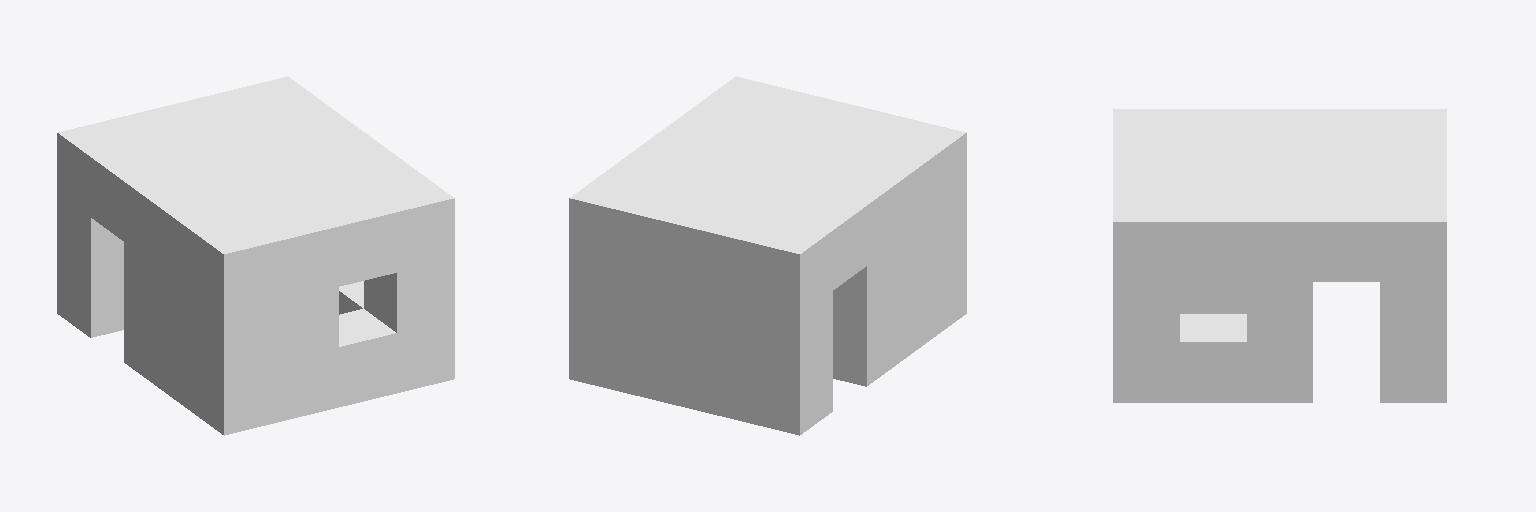
File: house1.obj
The picture shows the model from 3 angles: view 1: azimuth 30°, elevation 25°; view 2: azimuth 150°, elevation 25°; view 3: azimuth 270°, elevation 25°; orthographic projection.
Parts seen in each view (by area): view 1: object 1; view 2: object 1; view 3: object 1.
Part boxes in pixels (x1,y1,x2,y2): object 1: (57,76,454,435); object 1: (569,76,966,435); object 1: (1113,109,1446,402).
Bounding box in the file's own units: 0.4 × 0.3 × 0.5.